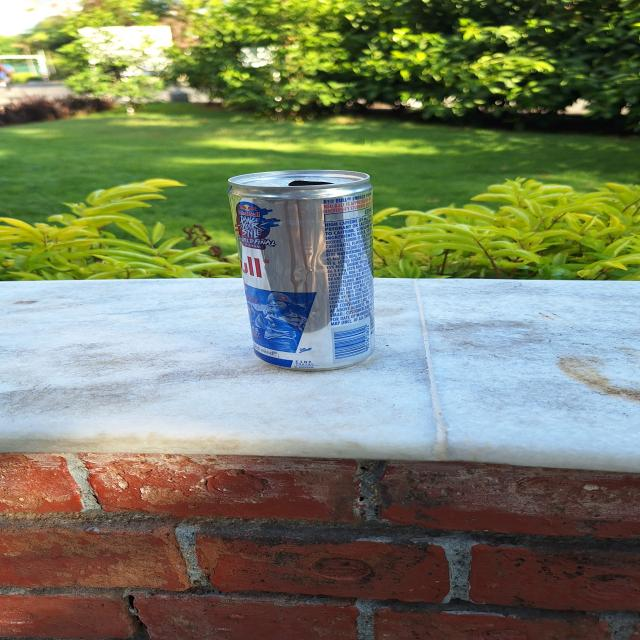Redbull DanceYourStyle: (234, 166, 387, 375)
